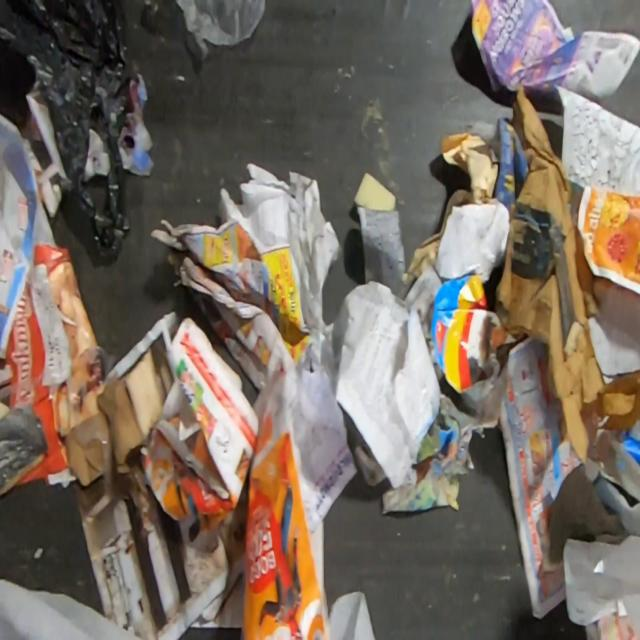cardboard: (493, 86, 606, 467), (0, 241, 108, 499), (68, 347, 164, 488)
soft_plastic: (0, 0, 140, 262), (174, 0, 267, 61)
